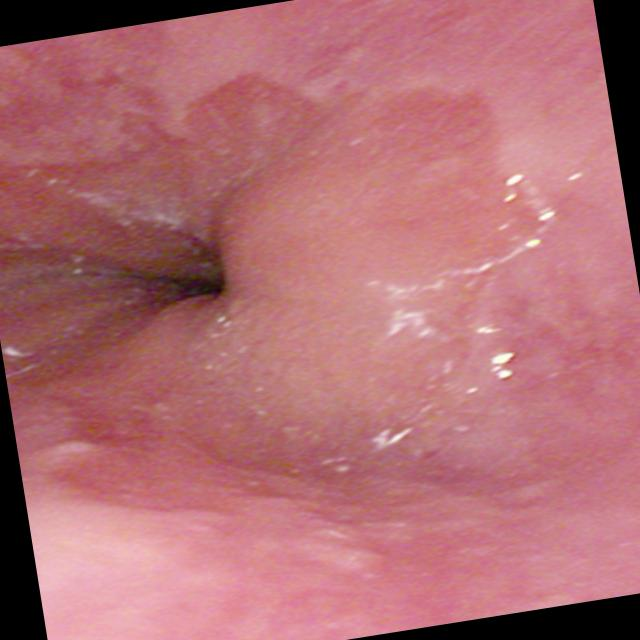Normal-Z-Line: (0, 59, 640, 548)
